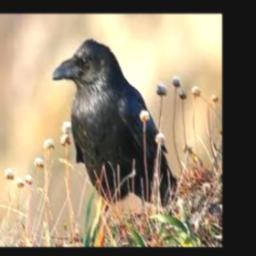Crow: (52, 37, 177, 210)
